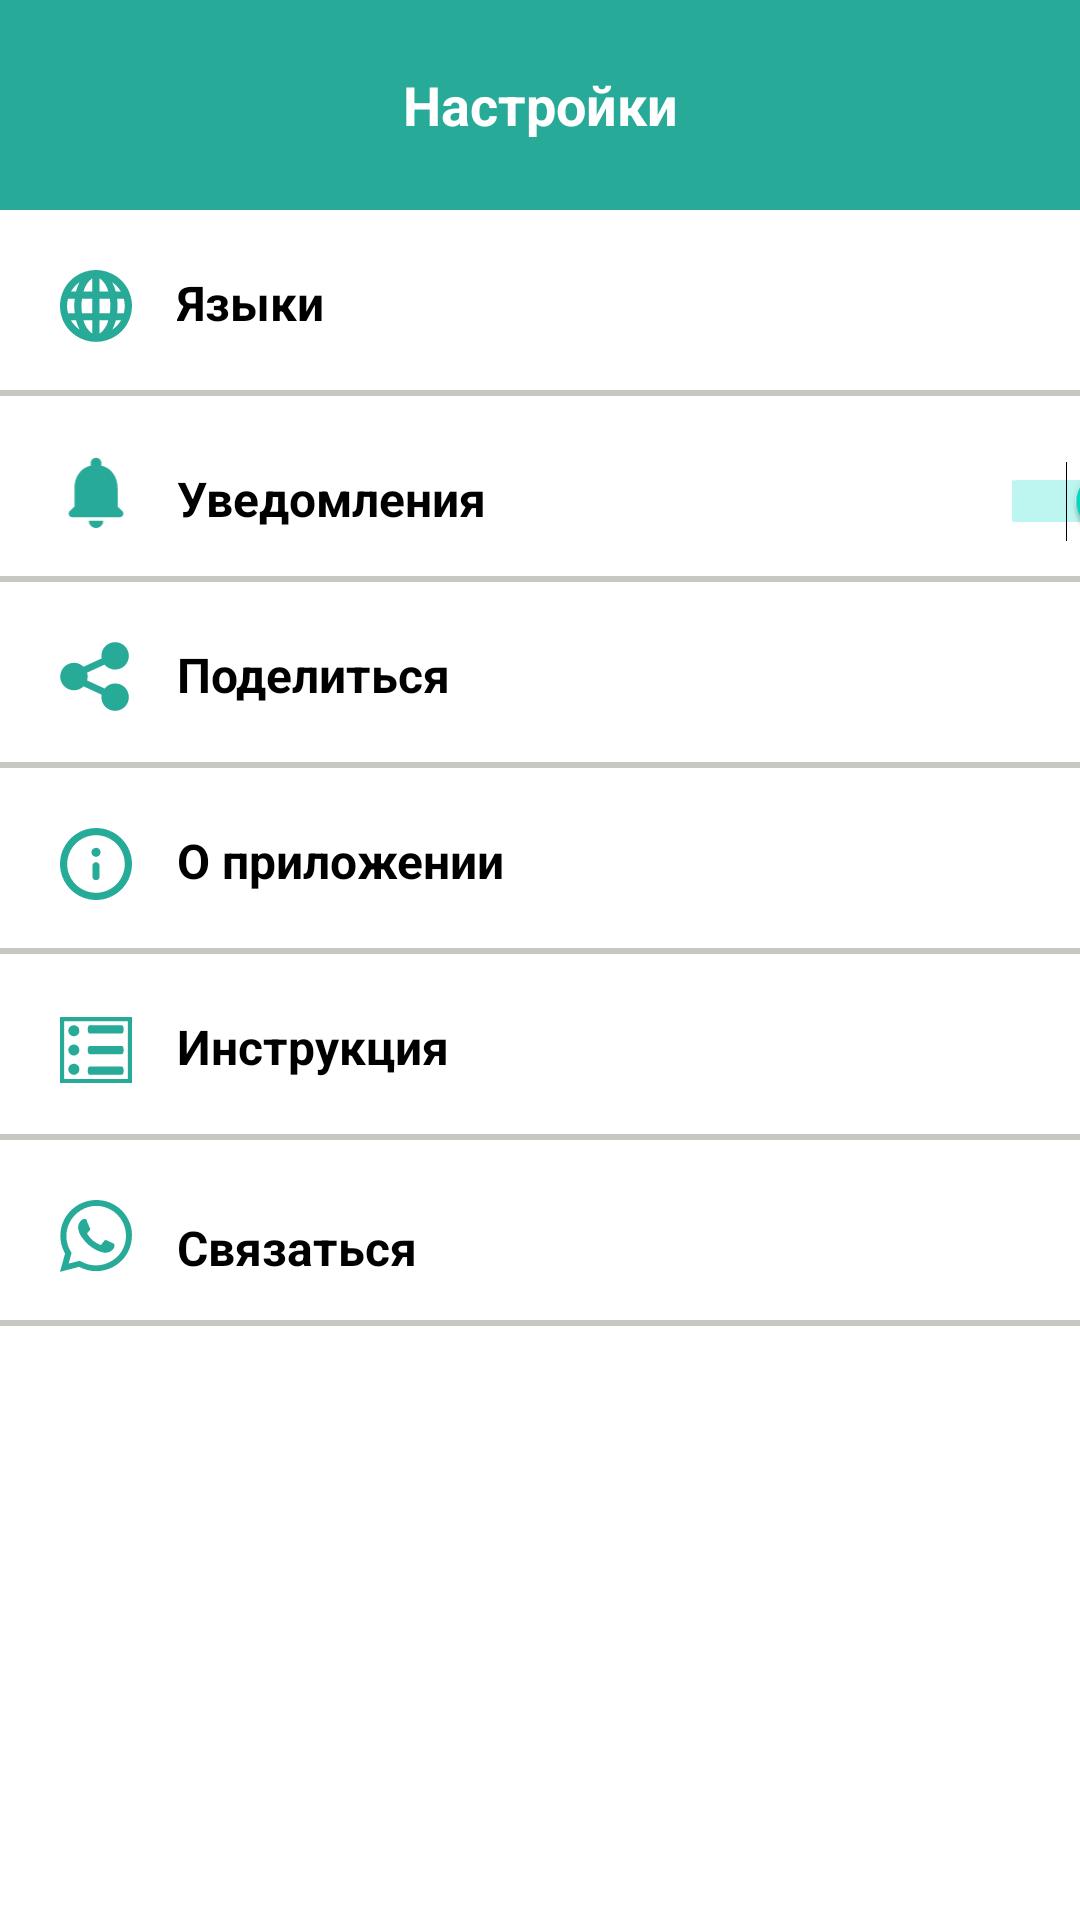

Where icons sit on this 1080px x 1920px app screen, as detection(x1, y1, x2, y2):
about: detection(60, 828, 132, 900)
language: detection(60, 270, 132, 342)
notifi: detection(68, 457, 124, 528)
share: detection(60, 642, 129, 711)
